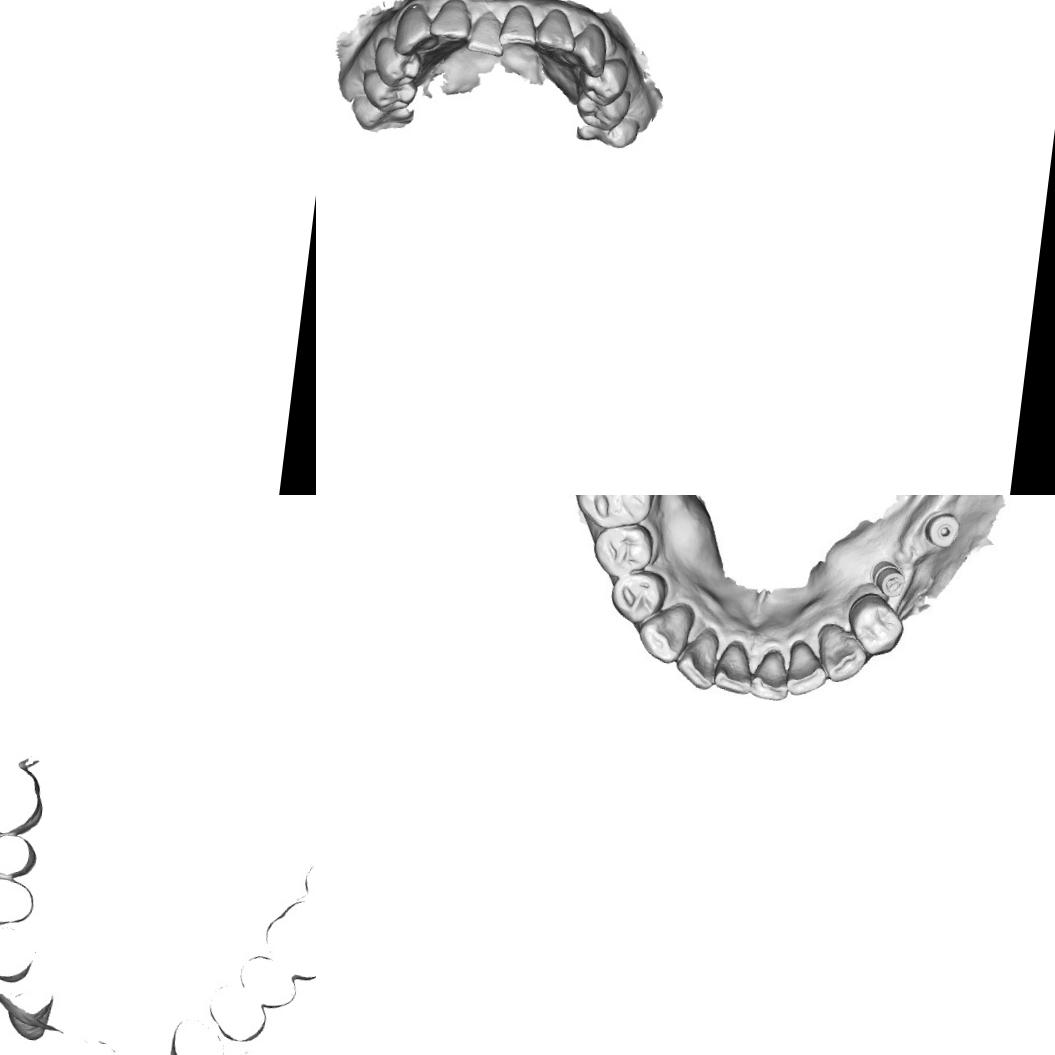canine: (390, 0, 444, 60), (819, 624, 871, 686), (560, 20, 610, 80), (644, 602, 691, 654)
implant: (928, 512, 962, 550), (875, 564, 910, 599)
incisor: (784, 643, 832, 696), (678, 630, 721, 688), (532, 7, 580, 56), (464, 7, 508, 58), (426, 0, 475, 44), (751, 650, 794, 700), (497, 2, 540, 50), (717, 642, 751, 689)
molar: (570, 495, 657, 527)
premolar: (592, 522, 658, 586), (575, 52, 632, 111), (368, 35, 426, 92), (850, 594, 904, 654), (358, 66, 420, 117), (572, 84, 632, 134), (611, 569, 661, 627)
